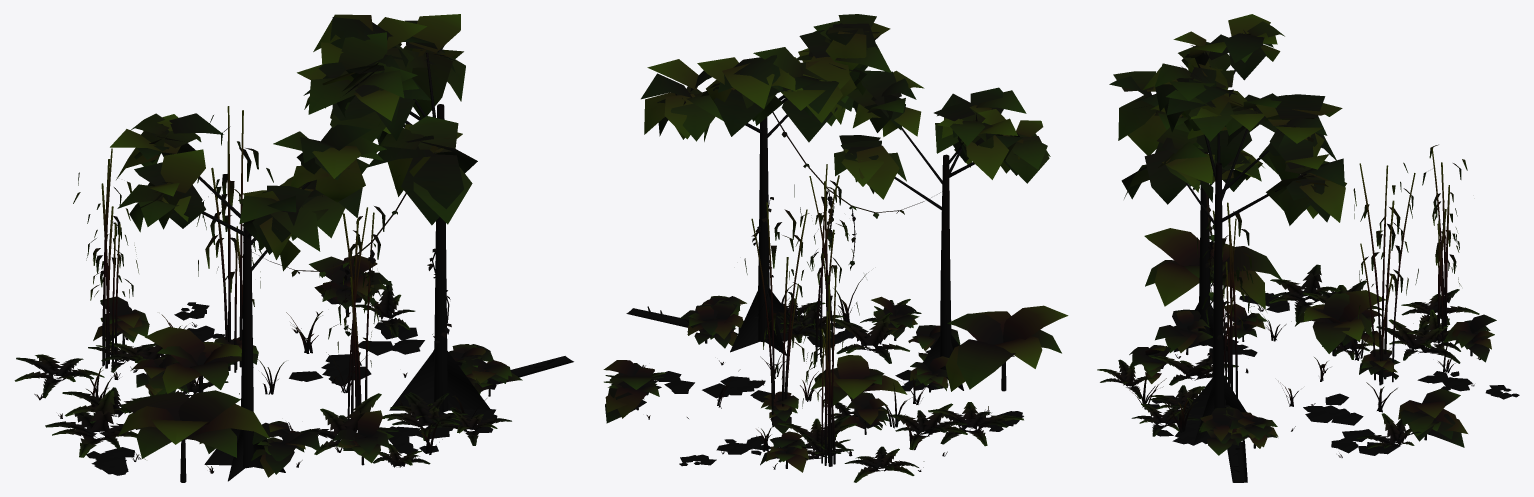
The model's file is patch_mixed.glb.
3 renders of one model, left to right at view 1: azimuth 30°, elevation 25°; view 2: azimuth 150°, elevation 25°; view 3: azimuth 270°, elevation 25°, orthographic. The views are drawn at different scales.
Parts seen in each view (by area): view 1: patch_mixed; view 2: patch_mixed; view 3: patch_mixed.
Part boxes in pixels (x1=…): patch_mixed: x1=14, y1=14, x2=573, y2=482; patch_mixed: x1=603, y1=14, x2=1068, y2=482; patch_mixed: x1=1097, y1=14, x2=1519, y2=482.
Bounding box in the file's own units: 14.59 × 10.98 × 12.78.
1 material, 1 textured.
